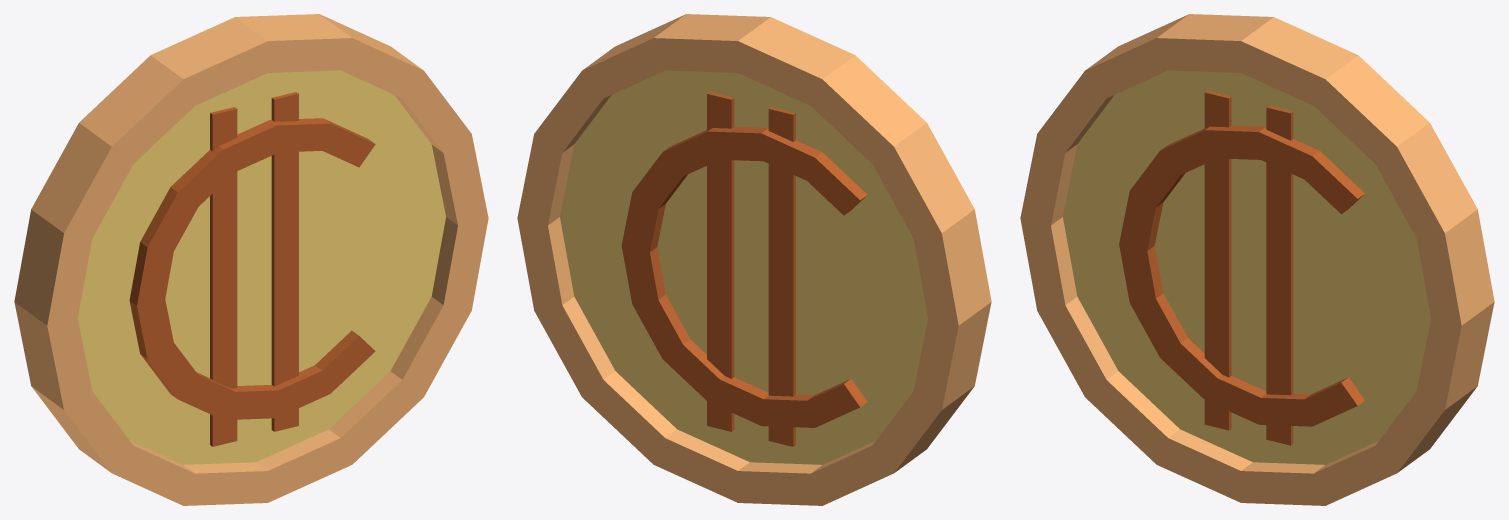
File: treasure_coin.fbx
3 views of the same model, side by side, from view 1: azimuth 30°, elevation 25°; view 2: azimuth 150°, elevation 25°; view 3: azimuth 330°, elevation 25° (orthographic).
Visible parts, largest first — view 1: Mesh; view 2: Mesh; view 3: Mesh.
Part boxes in pixels (bbox=[...]): Mesh: bbox=[14, 14, 488, 505]; Mesh: bbox=[517, 14, 991, 505]; Mesh: bbox=[1020, 14, 1494, 505].
Bounding box in the file's own units: 0.5 × 0.5 × 0.0646.
